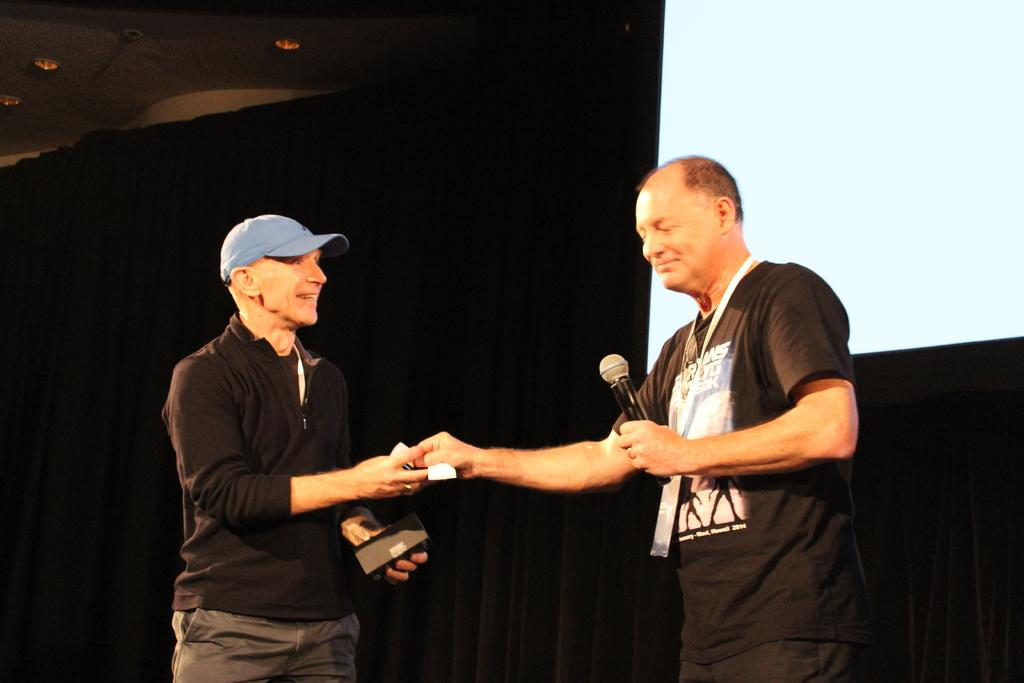Hat: (217, 214, 348, 283)
